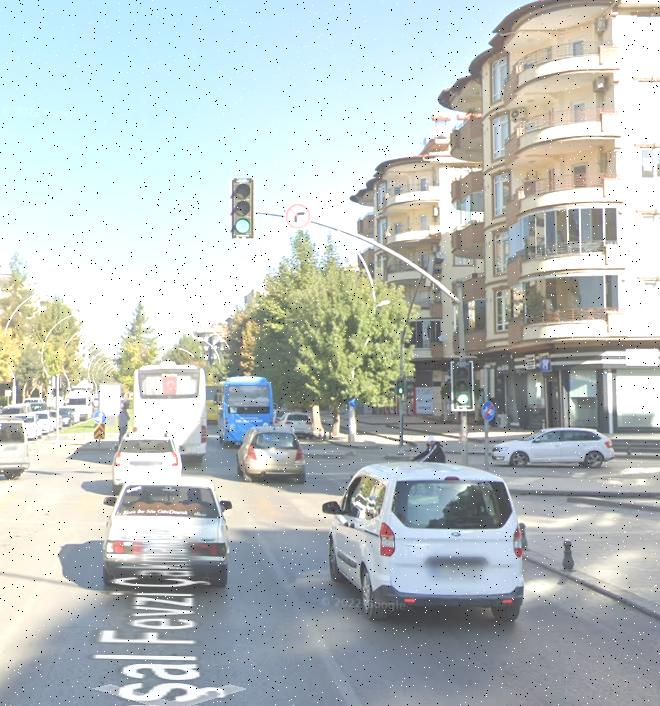greenlight: (232, 179, 254, 236), (451, 361, 473, 406)
rightturnsareforbidden: (286, 203, 311, 229)
